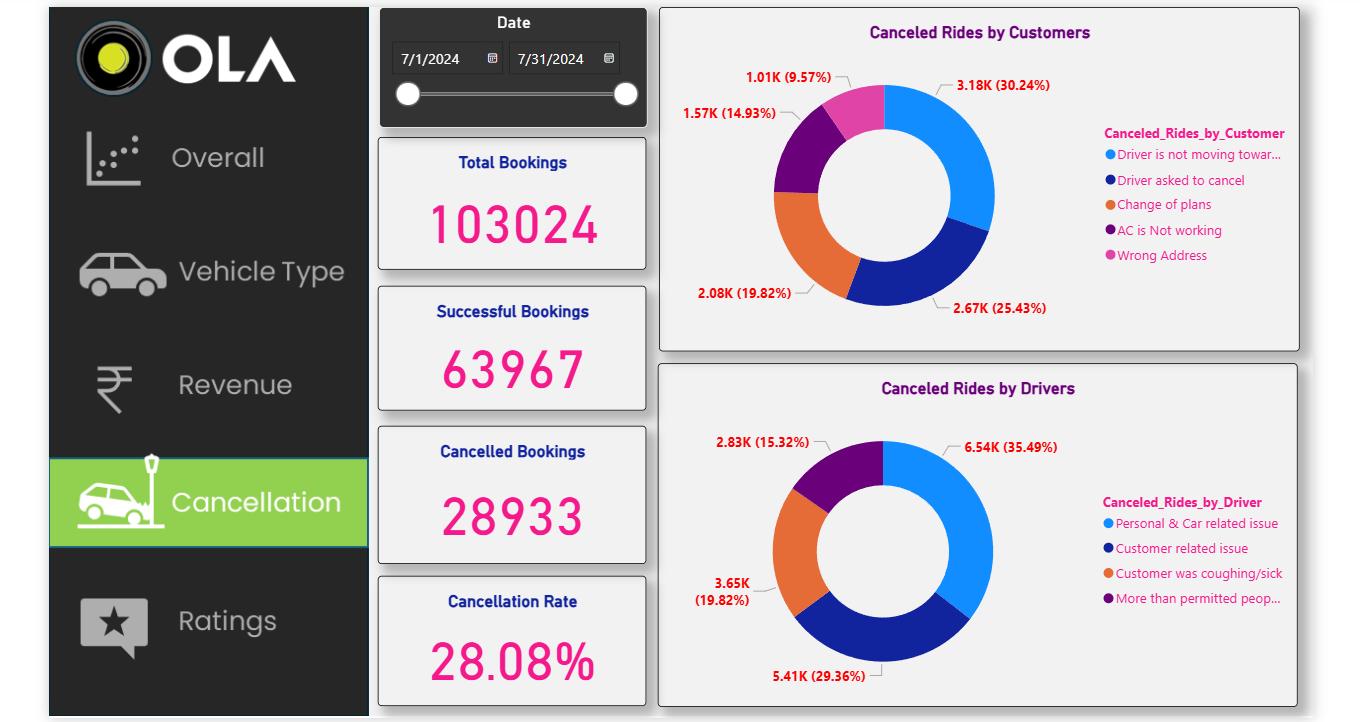

This screenshot's page, from the dashboard's own definition file:
{"tool":"powerbi","page":{"name":"Cancellation","canvas":[1280,720],"ordinal":3},"visuals":[{"type":"actionButton","box":[0,220.9,323.9,92],"z":0},{"type":"actionButton","box":[0,332.5,323.9,92],"z":1000},{"type":"actionButton","box":[0,576.7,323.9,92],"z":2000},{"type":"actionButton","box":[0,108,323.9,92],"z":3000},{"type":"donutChart","title":"Canceled Rides by Customers","fields":{"Category":["July.Canceled_Rides_by_Customer"],"Y":["CountNonNull(July.Canceled_Rides_by_Driver)"]},"box":[617.5,0,649.1,348.5],"z":4000},{"type":"donutChart","title":"Canceled Rides by Drivers","fields":{"Category":["July.Canceled_Rides_by_Driver"],"Y":["CountNonNull(July.Canceled_Rides_by_Driver)"]},"box":[616.9,360.6,647.9,347.9],"z":5000},{"type":"slicer","title":"Date","fields":{"Values":["July.Date"]},"box":[333.8,0,271.8,122.5],"z":6000},{"type":"card","title":"Total Bookings","fields":{"Values":["CountNonNull(July.Booking_ID)"]},"box":[333.3,131.9,272.2,134.7],"z":7000},{"type":"card","title":"Successful Bookings","fields":{"Values":["CountNonNull(July.Booking_ID)"]},"box":[333.3,281.9,272.2,126.4],"z":8000},{"type":"card","title":"Cancelled Bookings","fields":{"Values":["CountNonNull(July.Booking_ID)"]},"box":[333.3,423.6,272.2,140.3],"z":9000},{"type":"card","title":"Cancellation Rate","fields":{"Values":["July.CanceledPercentage"]},"box":[333.3,576.4,272.2,131.9],"z":10000}]}

Visuals, with their boxes on the page's 1280x720 design canvas (x1, y1, x2, y2). These are canvas units, not pixel positions in the 1360x722 screenshot, which may show the page scaled, cropped or inside an application window:
actionButton: <box>0,221,324,313</box>
actionButton: <box>0,332,324,424</box>
actionButton: <box>0,577,324,669</box>
actionButton: <box>0,108,324,200</box>
"Canceled Rides by Customers" donutChart: <box>618,0,1267,348</box>
"Canceled Rides by Drivers" donutChart: <box>617,361,1265,708</box>
"Date" slicer: <box>334,0,606,122</box>
"Total Bookings" card: <box>333,132,606,267</box>
"Successful Bookings" card: <box>333,282,606,408</box>
"Cancelled Bookings" card: <box>333,424,606,564</box>
"Cancellation Rate" card: <box>333,576,606,708</box>
